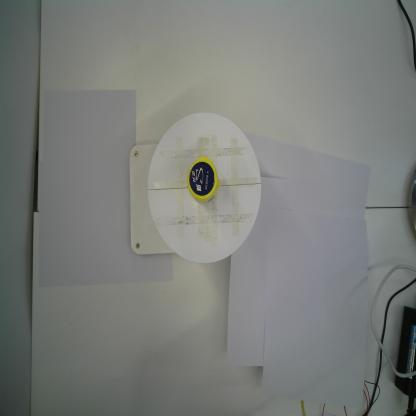Gum: (186, 156, 220, 202)
